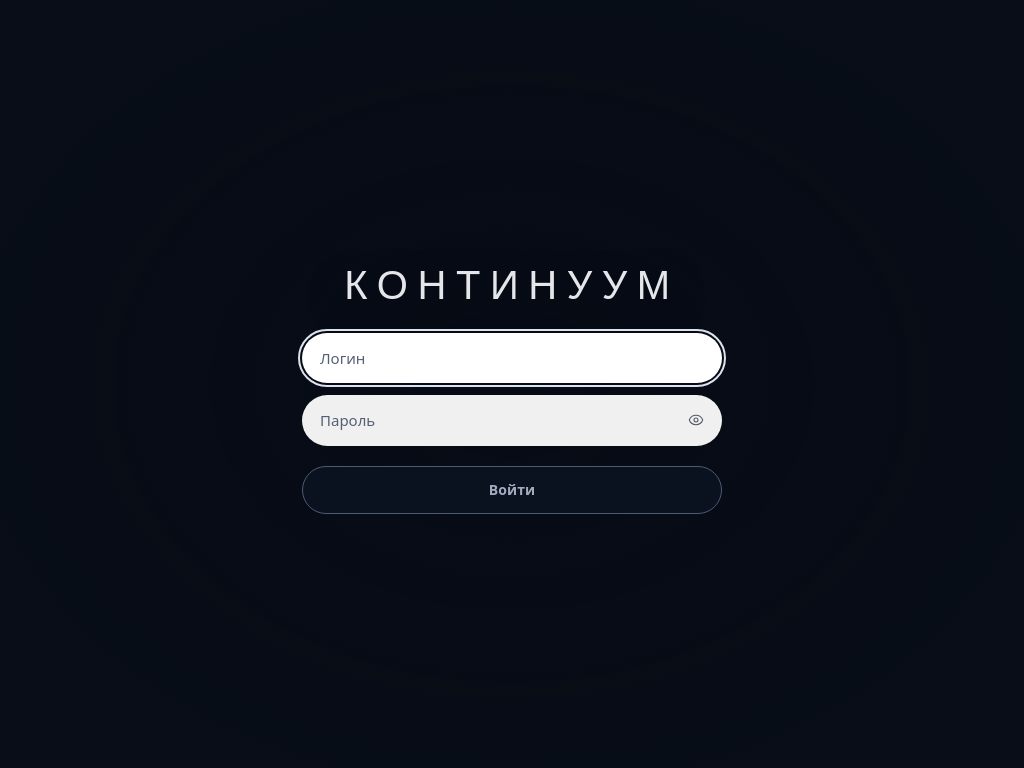
Test: UnifiedLoginScreen › shows auth error message on 401 response
Type "bad-user" into the field labelled "Логин" at (512, 358), box [302, 332, 722, 383]
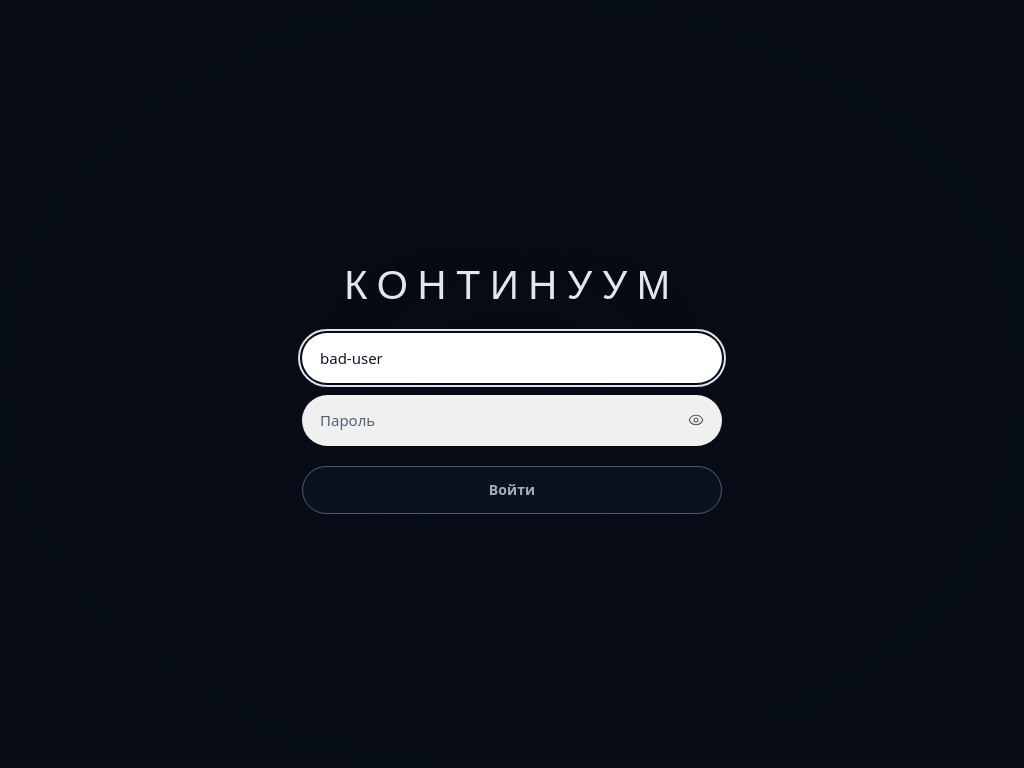
Type "bad-pass" into the password field labelled "Пароль" at (512, 420), box [302, 395, 722, 446]
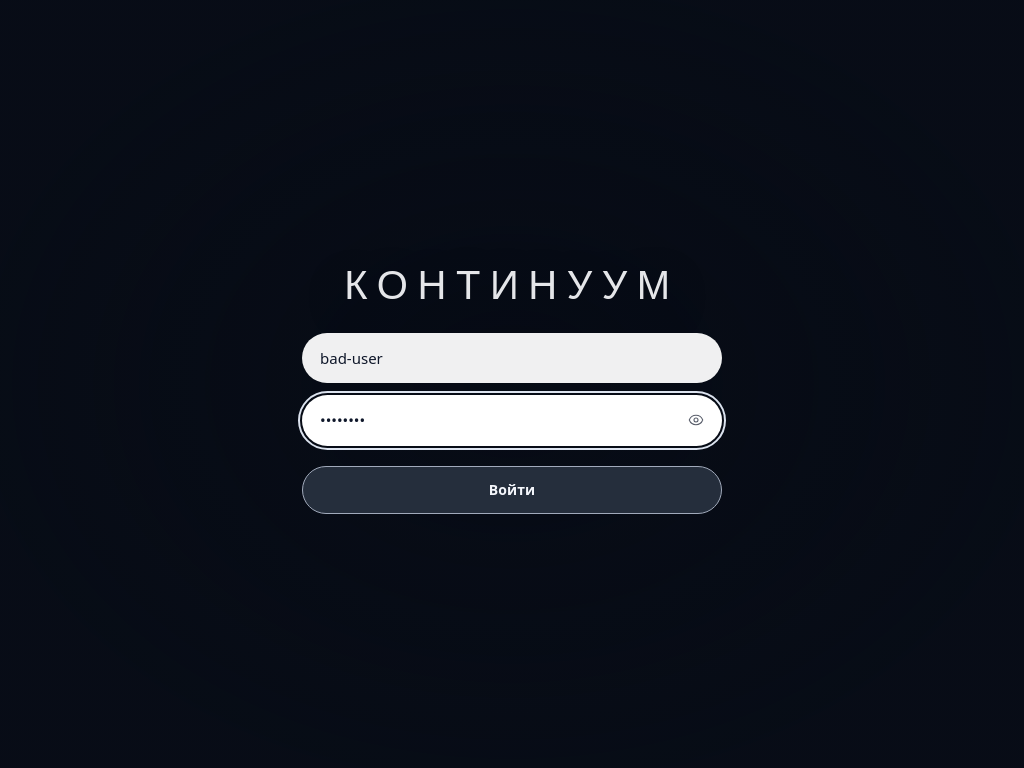
Click the button "Войти" at (512, 490), box [302, 466, 722, 514]
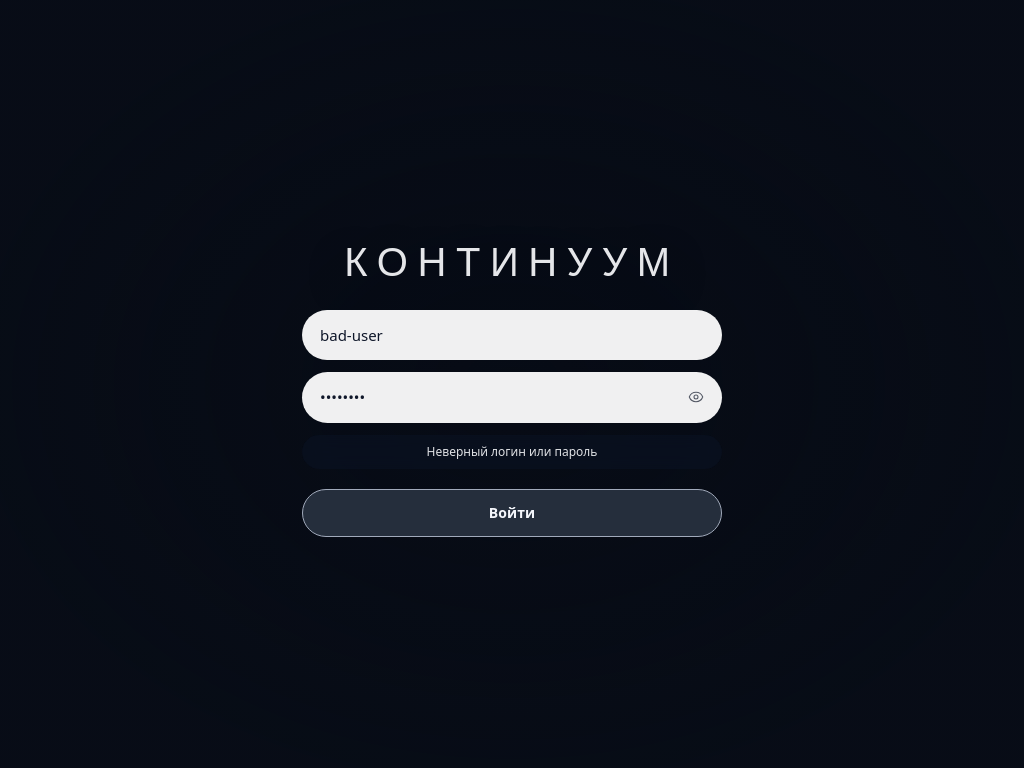
Now the message reads "Неверный логин или пароль", box [427, 442, 597, 460]
